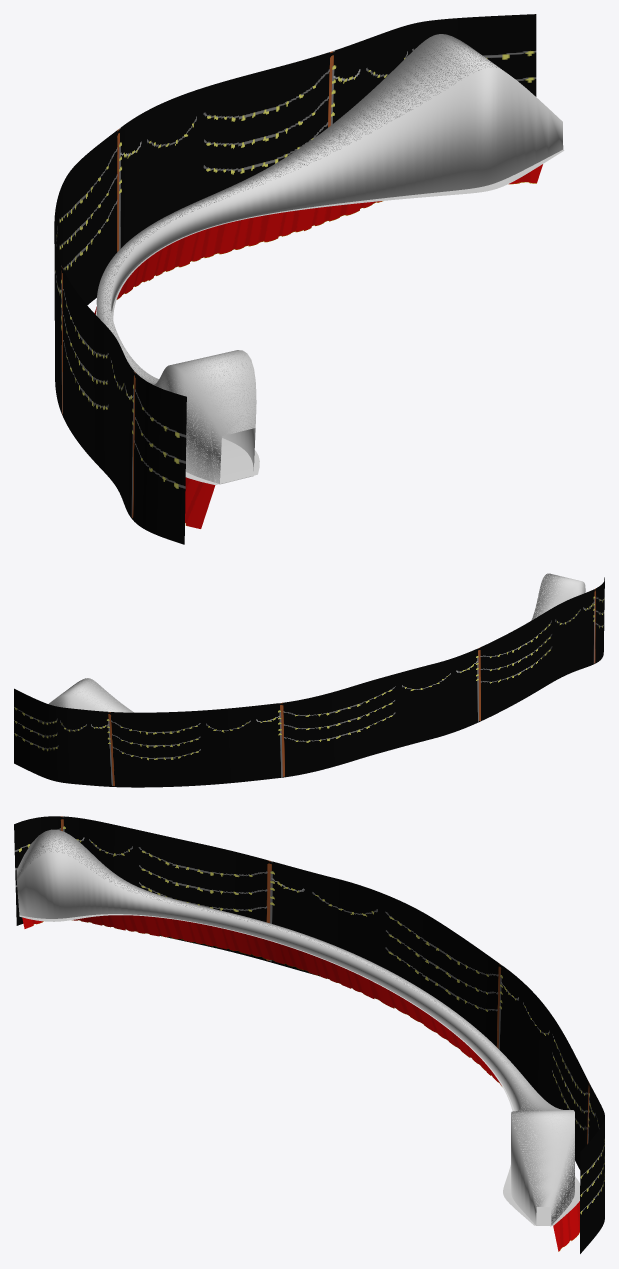
The model's file is Level1Backup2.fbx.
3 renders of one model, top to bottom at view 1: azimuth 30°, elevation 25°; view 2: azimuth 150°, elevation 25°; view 3: azimuth 270°, elevation 25°, orthographic. The views are drawn at different scales.
Visible parts, largest first — view 1: DecorationTexture, WallPhysics, GroundDecoration, WallTexture, Ground; view 2: DecorationTexture, WallPhysics, WallTexture; view 3: DecorationTexture, WallPhysics, GroundDecoration, WallTexture, Ground.
Boxes of the visible parts, x1,y1,x2,y2 form: DecorationTexture: (54, 14, 536, 544); WallPhysics: (96, 34, 563, 484); GroundDecoration: (94, 164, 542, 528); WallTexture: (97, 34, 498, 482); Ground: (96, 149, 564, 485); DecorationTexture: (14, 577, 604, 787); WallPhysics: (49, 573, 585, 712); WallTexture: (49, 574, 584, 712); DecorationTexture: (14, 816, 604, 1253); WallPhysics: (16, 829, 574, 1226); GroundDecoration: (22, 915, 579, 1251); WallTexture: (17, 830, 574, 1222); Ground: (19, 914, 580, 1225).
Bounding box in the file's own units: 10180 × 3322 × 9769.
